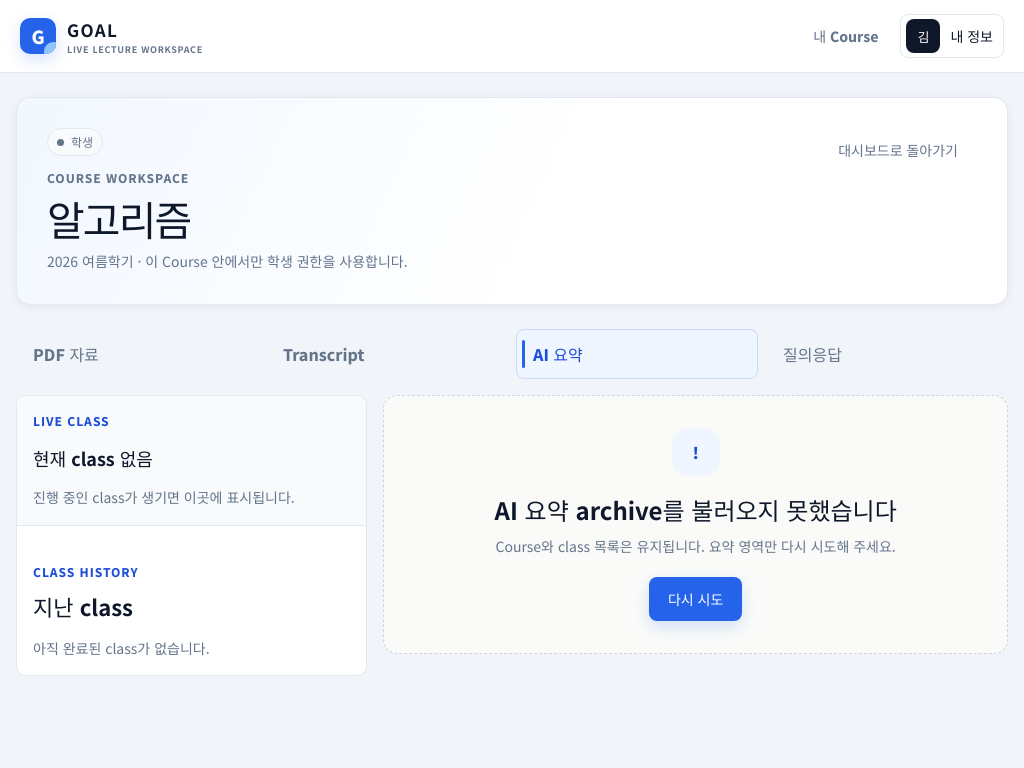
Course Summary archive › recovers an initial archive error without removing workspace navigation
expect the heading "AI 요약 archive를 불러오지 못했습니다" is shown: met, box [495,492,897,527]
expect the navigation bar named "Course 기록 탐색" is shown: met, box [33,329,842,379]
Click the button "다시 시도" at {"x": 696, "y": 599}, box [649,577,742,621]
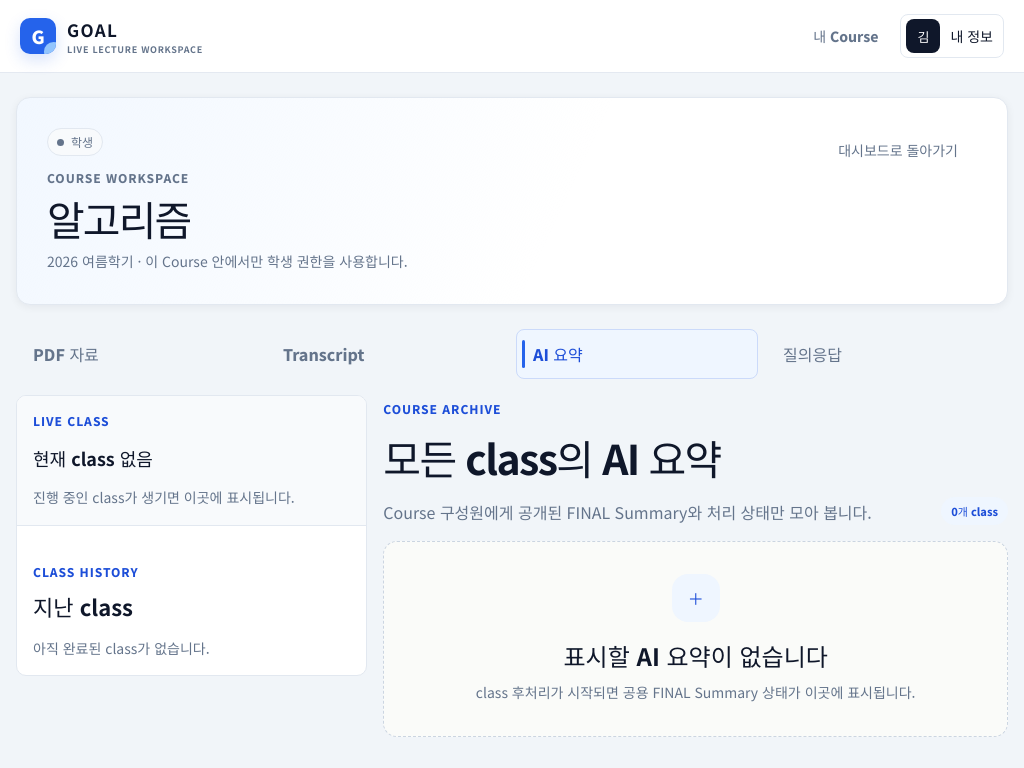
expect the heading "표시할 AI 요약이 없습니다" is shown: met, box [564,638,828,673]
